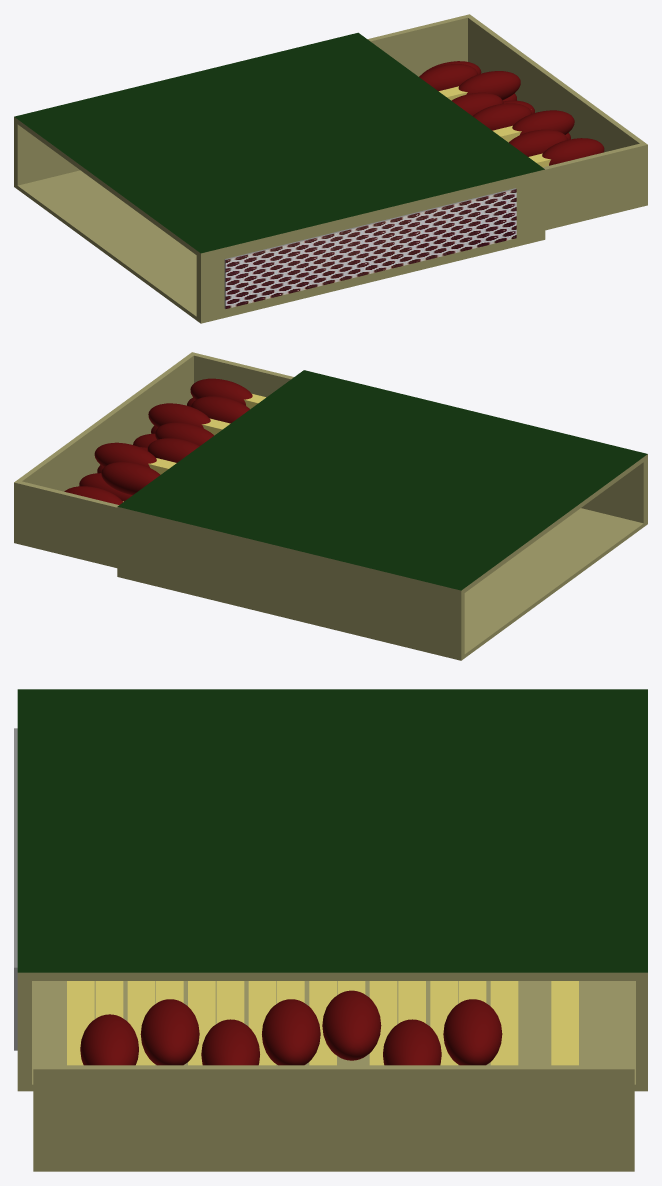
File: matchbox.FBX
3 views of the same model, one above another, from view 1: azimuth 30°, elevation 25°; view 2: azimuth 150°, elevation 25°; view 3: azimuth 270°, elevation 25° (orthographic). The views are drawn at different scales.
Parts seen in each view (by area): view 1: Box001; view 2: Box001; view 3: Box001.
Part boxes in pixels (left/top/right/bottom): Box001: left=14, top=14, right=647, bottom=323; Box001: left=14, top=352, right=647, bottom=660; Box001: left=14, top=689, right=647, bottom=1171.
Size of the model in its own units: 8.97 by 1.33 by 6.47.
6 materials, 1 textured.
